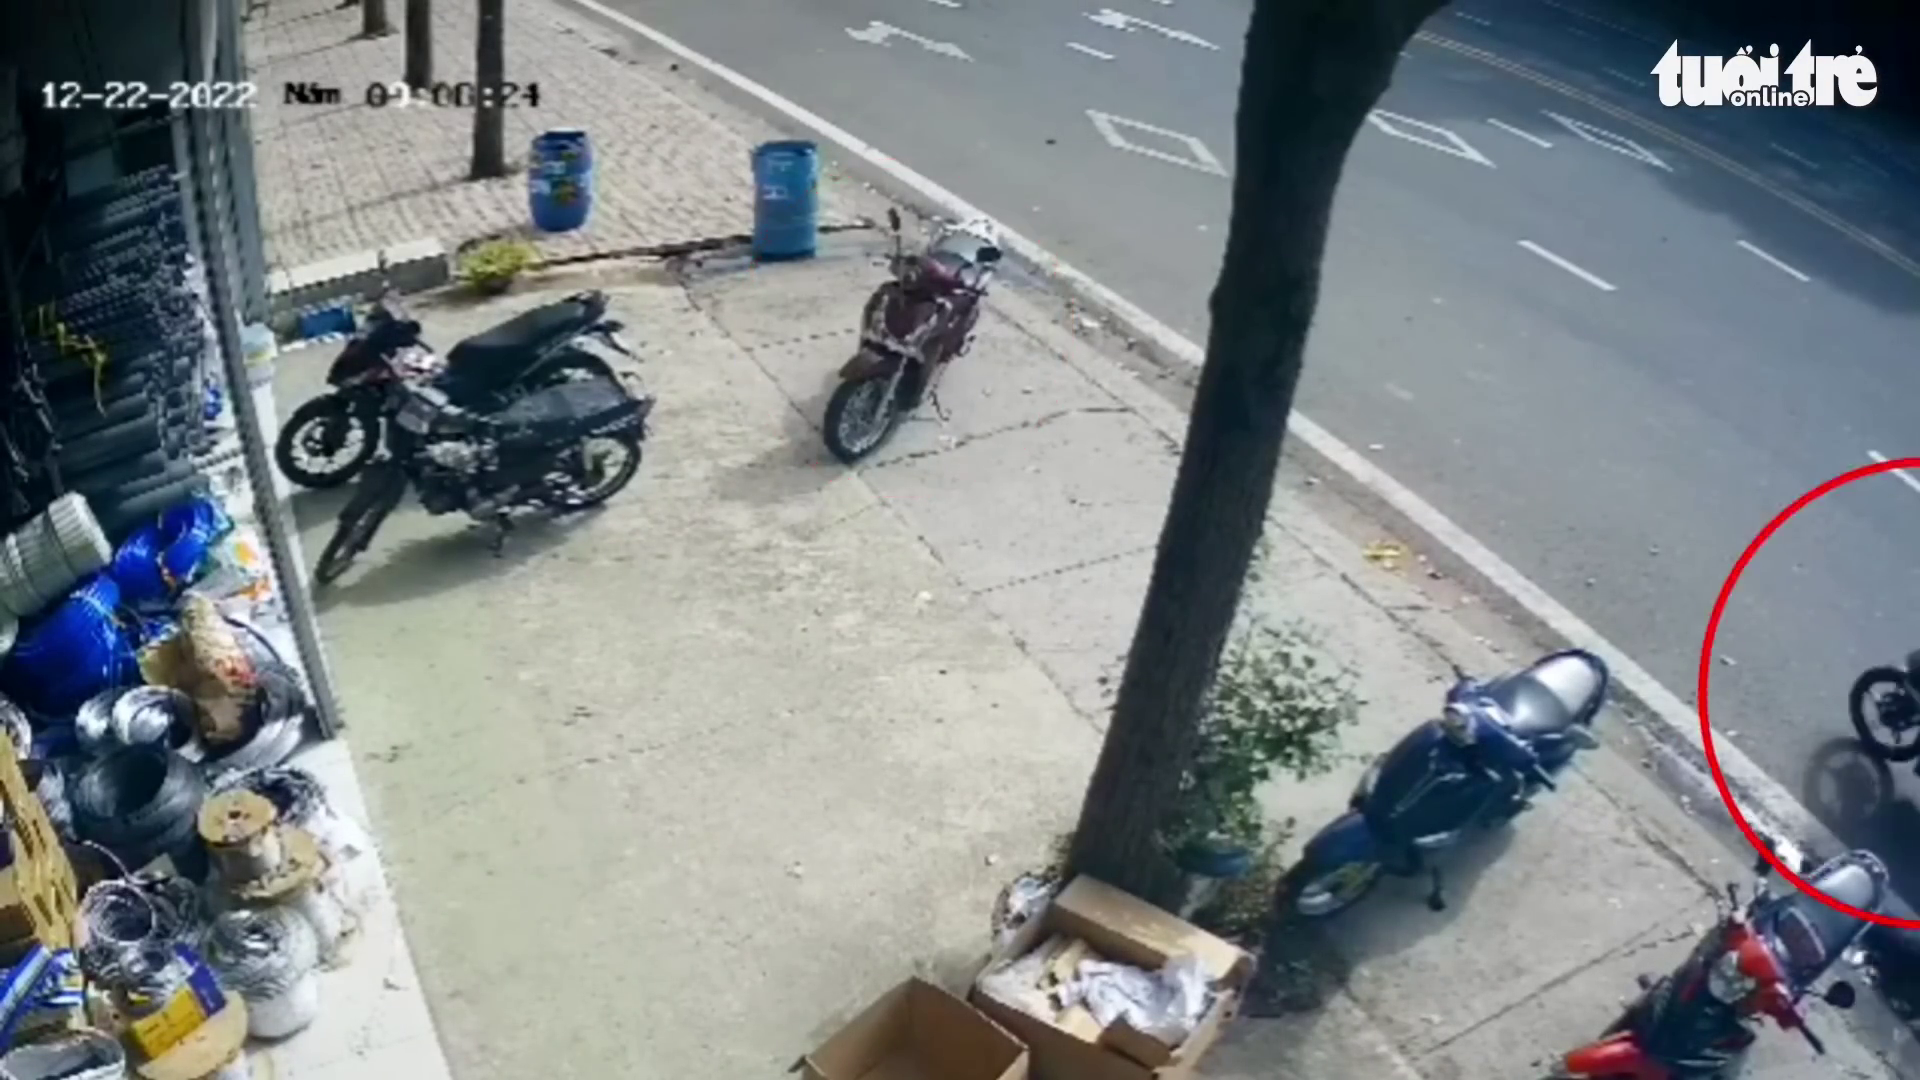Motorcycle: (274, 282, 655, 589), (1283, 647, 1611, 919), (820, 202, 1005, 462)
